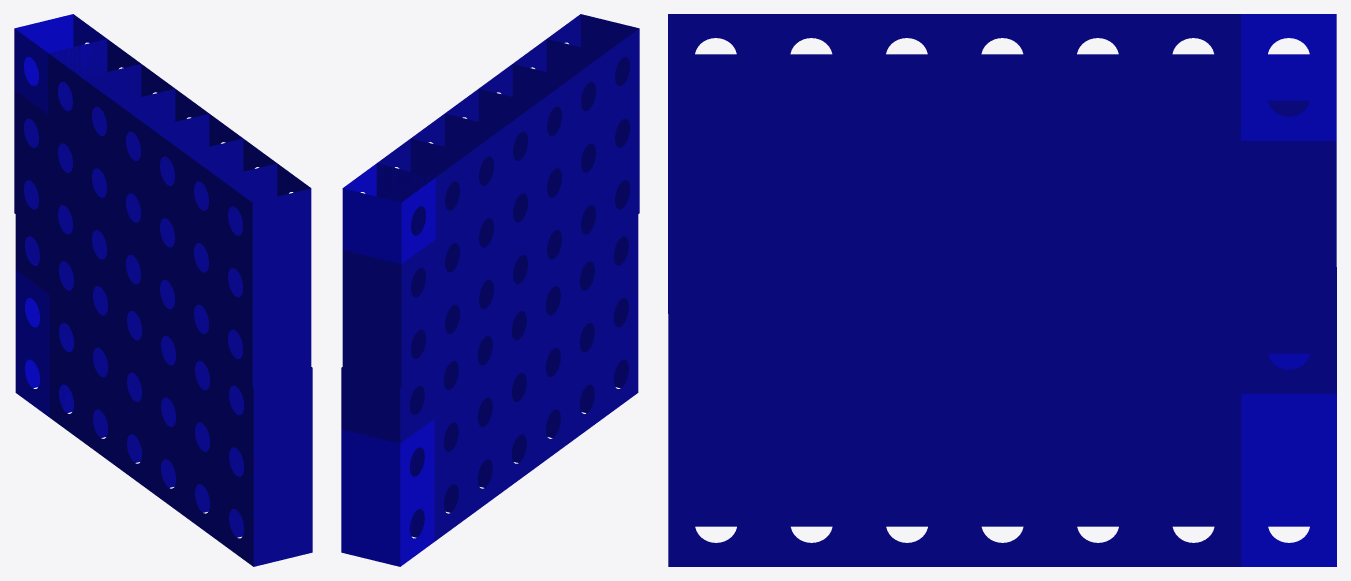
3 renders of one model, left to right at view 1: azimuth 30°, elevation 25°; view 2: azimuth 150°, elevation 25°; view 3: azimuth 270°, elevation 25°, orthographic. The views are drawn at different scales.
Parts seen in each view (by area): view 1: Cube.010; view 2: Cube.010; view 3: Cube.010.
Part boxes in pixels (box(x1,y1,x2,y2)): Cube.010: box(14, 14, 312, 566); Cube.010: box(341, 14, 639, 566); Cube.010: box(668, 14, 1336, 566).
Size of the model in its own units: 0.0917 by 0.6303 by 0.5323.
